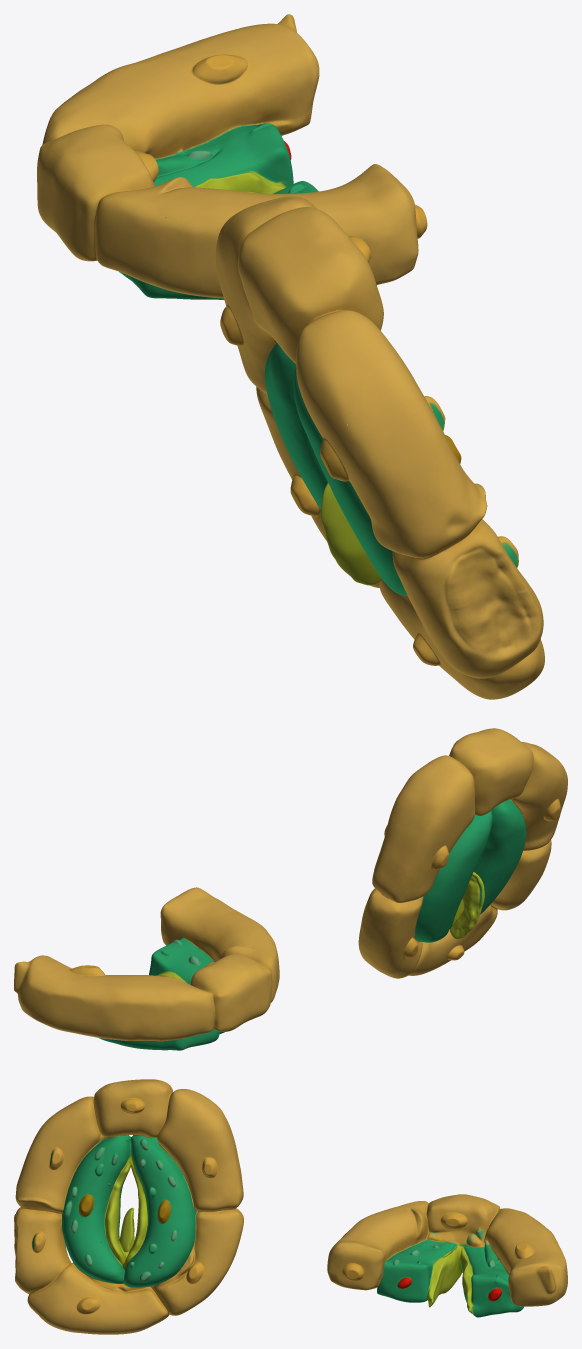
Rendered from Plant Stomata.glb.
3 views of the same model, one above another, from view 1: azimuth 30°, elevation 25°; view 2: azimuth 150°, elevation 25°; view 3: azimuth 270°, elevation 25° (orthographic). The views are drawn at different scales.
Visible parts, largest first — view 1: tripo_node_3ff62077-09af-4276-95dd-4edce1d84dcf; view 2: tripo_node_3ff62077-09af-4276-95dd-4edce1d84dcf; view 3: tripo_node_3ff62077-09af-4276-95dd-4edce1d84dcf.
Boxes of the visible parts, <box> form: tripo_node_3ff62077-09af-4276-95dd-4edce1d84dcf: <box>37,14,544,699</box>; tripo_node_3ff62077-09af-4276-95dd-4edce1d84dcf: <box>14,728,567,1050</box>; tripo_node_3ff62077-09af-4276-95dd-4edce1d84dcf: <box>14,1079,567,1334</box>.
Size of the model in its own units: 0.4811 by 0.4474 by 1.
Materials: 1 (1 with a texture image).
